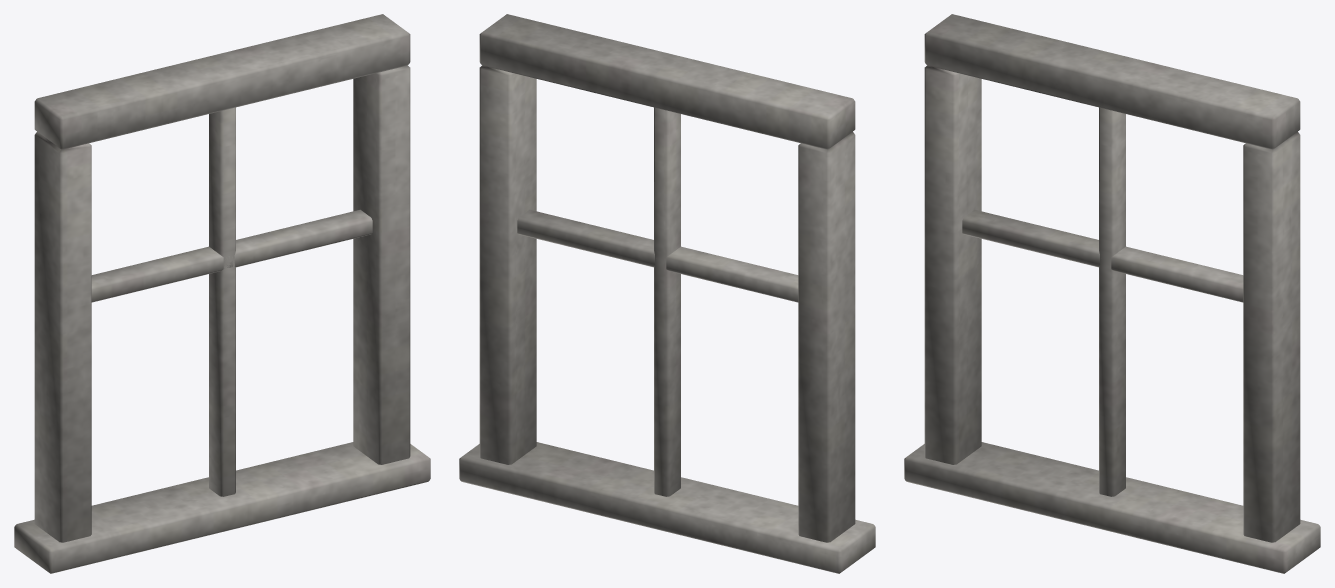
File: stone-window-frame.glb
3 renders of one model, left to right at view 1: azimuth 30°, elevation 25°; view 2: azimuth 150°, elevation 25°; view 3: azimuth 330°, elevation 25°, orthographic.
Parts seen in each view (by area): view 1: stone_window_frame; view 2: stone_window_frame; view 3: stone_window_frame.
Boxes of the visible parts, bbox=[...] form: stone_window_frame: bbox=[14, 14, 430, 573]; stone_window_frame: bbox=[459, 14, 875, 573]; stone_window_frame: bbox=[904, 14, 1320, 573].
Bounding box in the file's own units: 2.4 × 2.7 × 0.4.
Materials: 1 (1 with a texture image).
